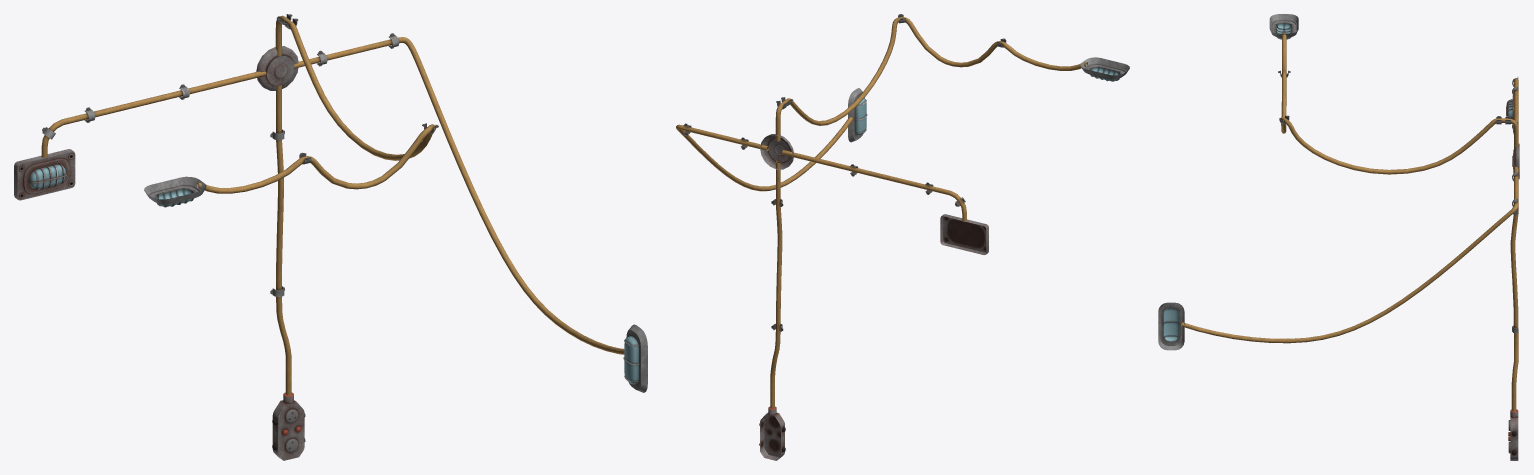
Rendered from Cables01_08.glb.
The picture shows the model from 3 angles, left to right: view 1: azimuth 30°, elevation 25°; view 2: azimuth 150°, elevation 25°; view 3: azimuth 270°, elevation 25°; orthographic projection. The views are drawn at different scales.
Visible parts, largest first — view 1: Circle; view 2: Circle; view 3: Circle.
Boxes of the visible parts, x1=… form: Circle: x1=14, y1=14, x2=647, y2=460; Circle: x1=676, y1=14, x2=1129, y2=460; Circle: x1=1158, y1=14, x2=1519, y2=460.
Size of the model in its own units: 1.93 by 1.98 by 1.92.
Materials: 1 (1 with a texture image).
